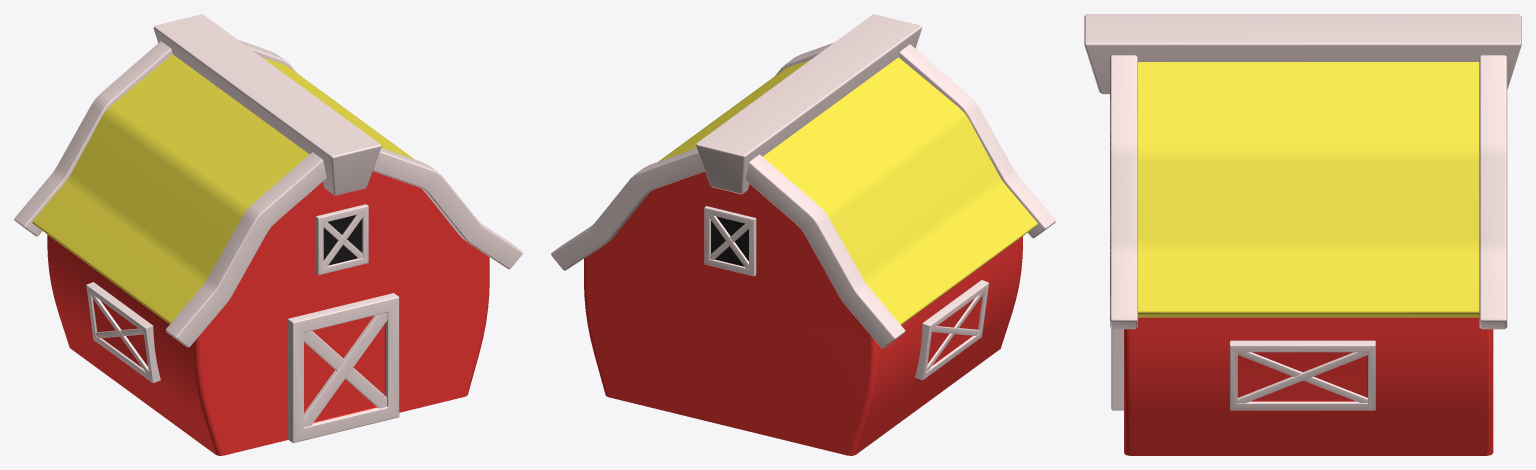
The model's file is Farm_9_Barn_1.glb.
3 renders of one model, left to right at view 1: azimuth 30°, elevation 25°; view 2: azimuth 150°, elevation 25°; view 3: azimuth 270°, elevation 25°, orthographic. The views are drawn at different scales.
Parts seen in each view (by area): view 1: Farm_9_Barn_1; view 2: Farm_9_Barn_1; view 3: Farm_9_Barn_1.
Boxes of the visible parts, <box> form: Farm_9_Barn_1: <box>14,14,522,455</box>; Farm_9_Barn_1: <box>551,14,1055,455</box>; Farm_9_Barn_1: <box>1084,14,1521,455</box>.
Size of the model in its own units: 8.9 by 7.06 by 7.97.
Materials: 1 (1 with a texture image).
